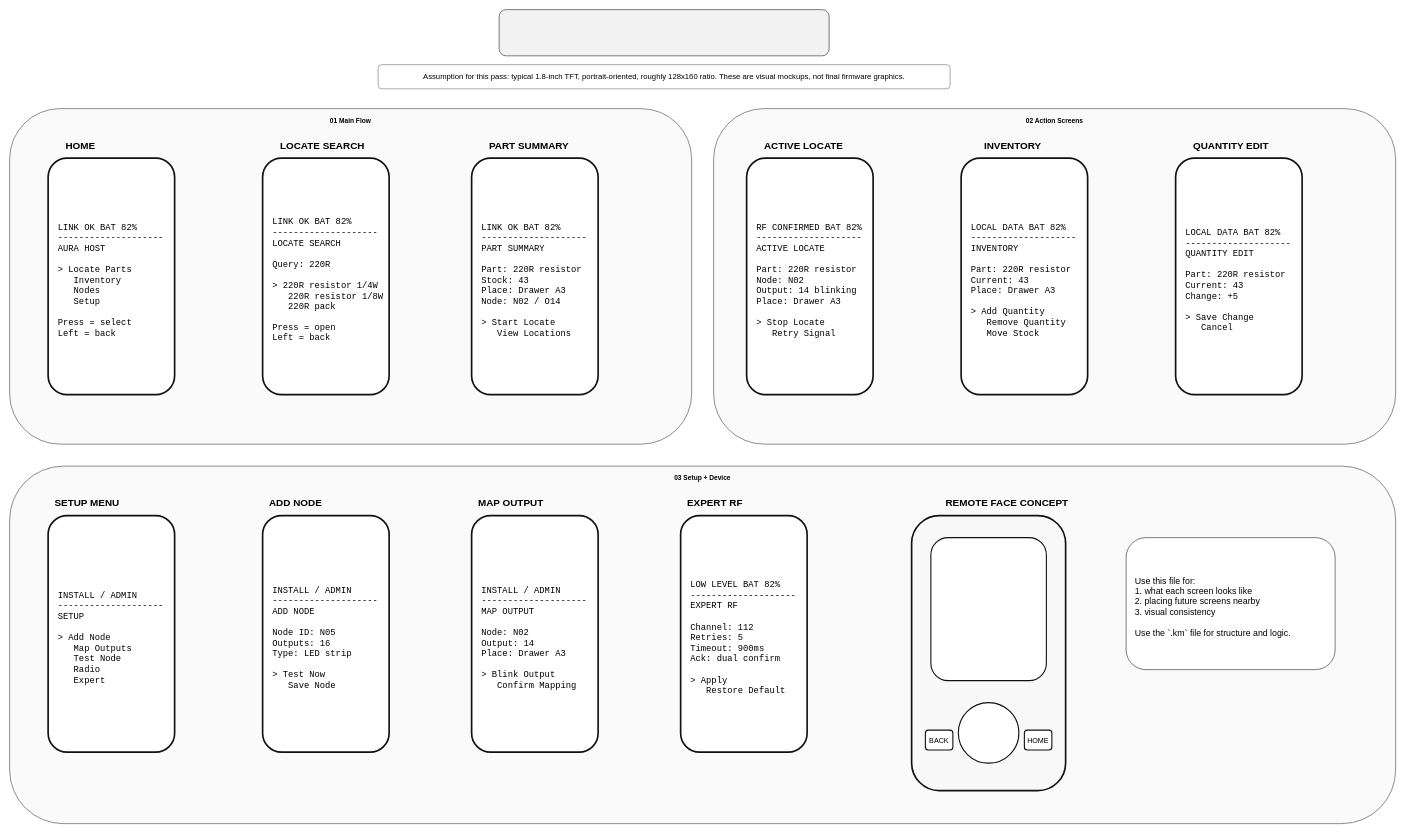
Image size: 1405x833. Some labels were removed from this diagram. The shapes that lost their labels are listed below. From the top down, each one's centre as x and y in pixels, then its label:
the point at 664,32: AURA Host Remote 1.8-inch Display Mockups
the point at 988,609: 1.8 inch display area
the point at 988,732: JOYSTICK
